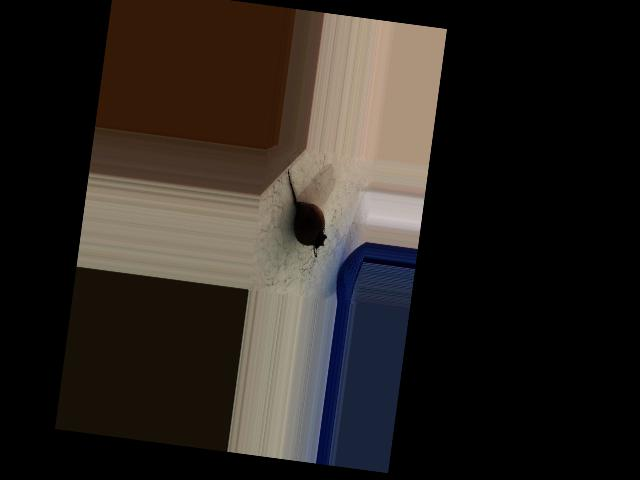beet: (276, 168, 334, 257)
